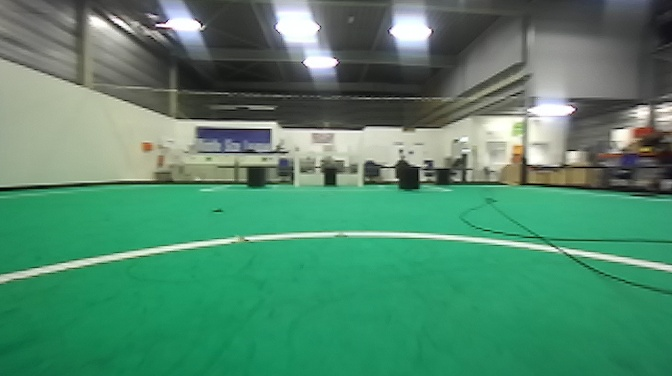goalpost: (293, 154, 304, 188), (354, 151, 363, 181)
